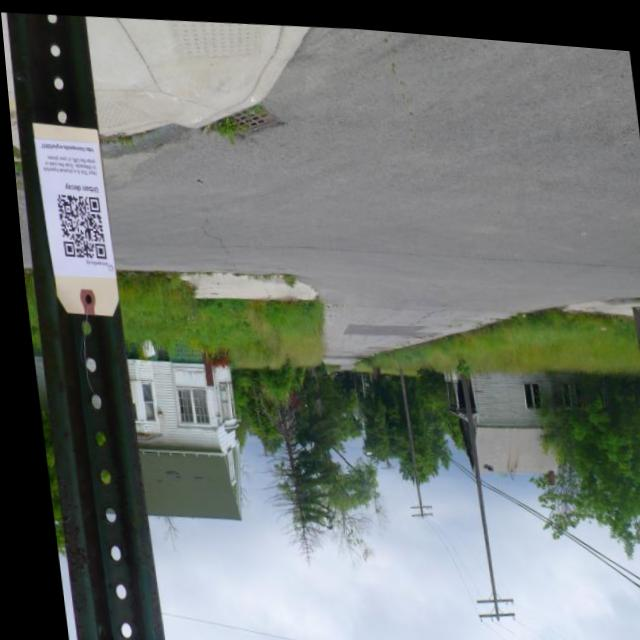qrcode: (53, 192, 101, 258)
